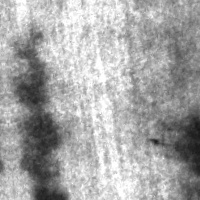patches: (10, 33, 65, 190), (167, 110, 199, 179), (26, 173, 73, 199)
